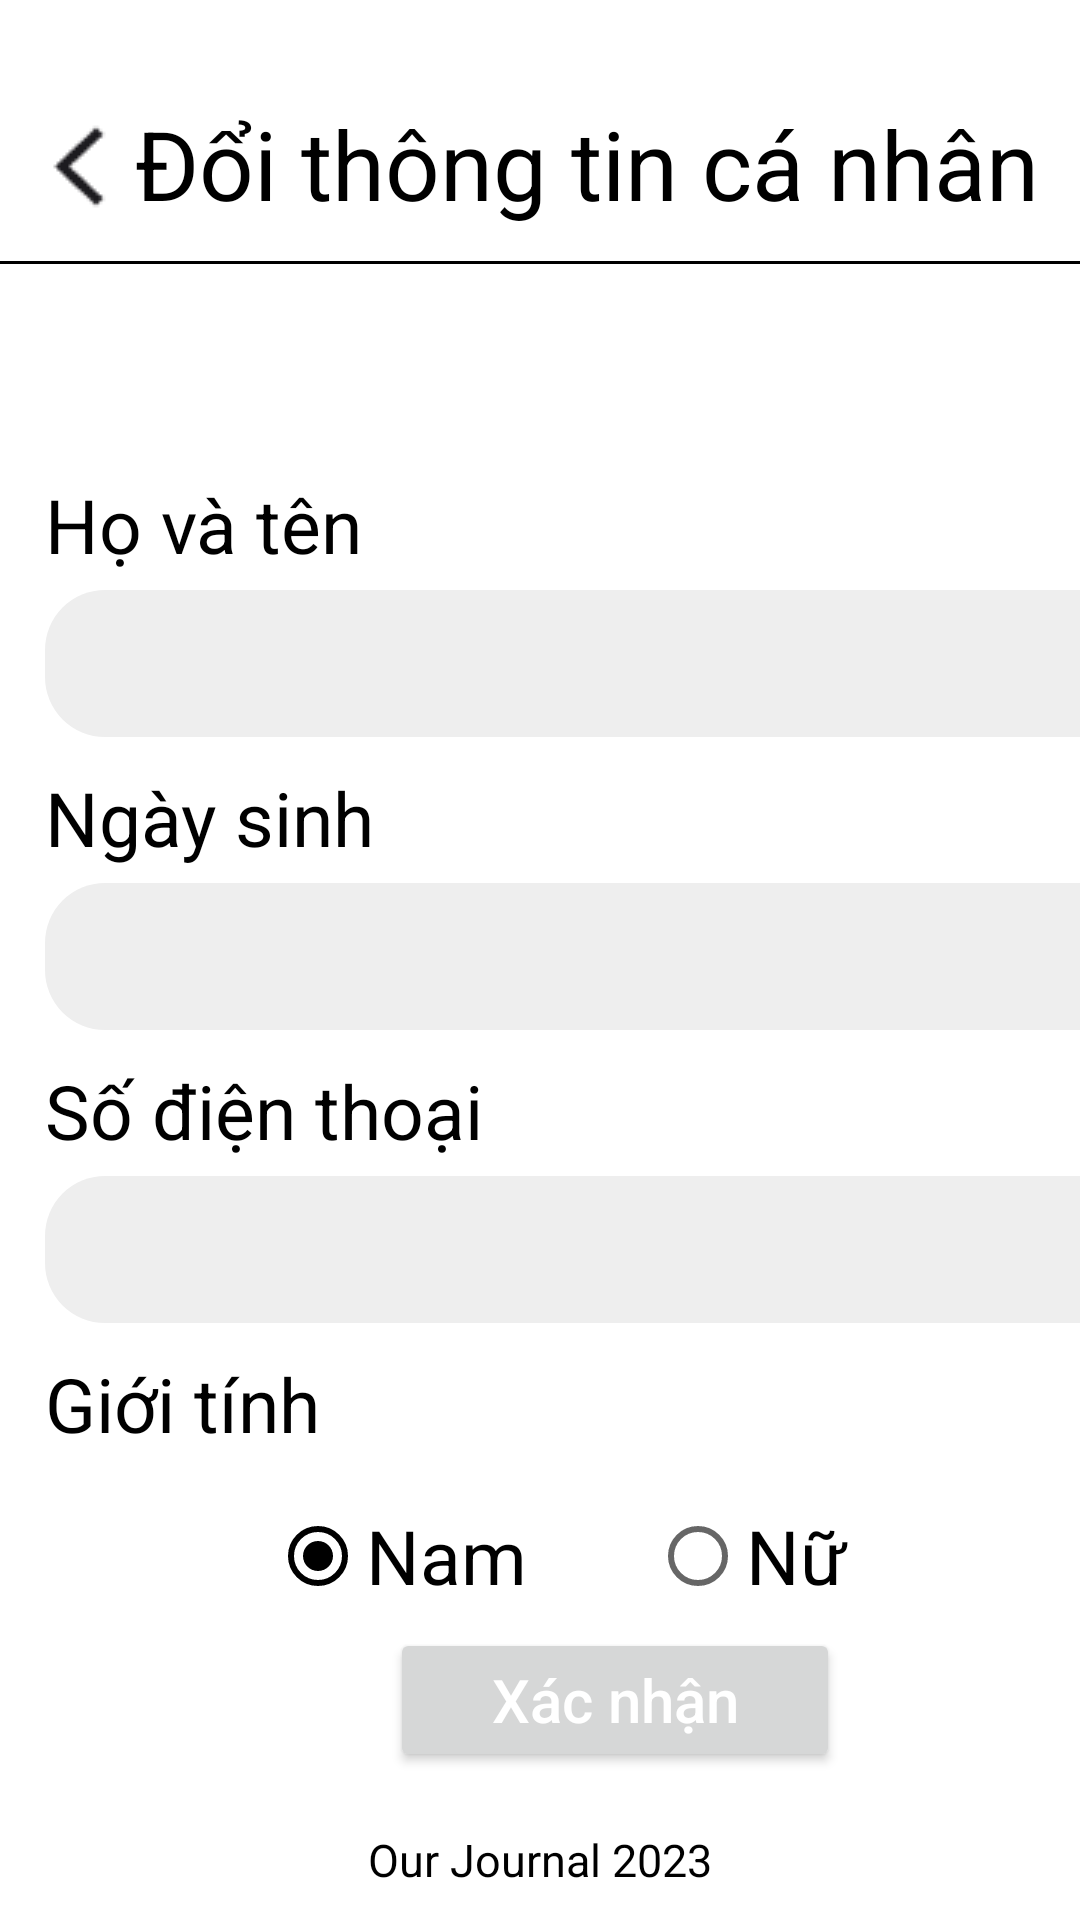

Where to tap for icons on this 1080px×1920px app screen, as [x,y]:
arrow back: [78,166]
